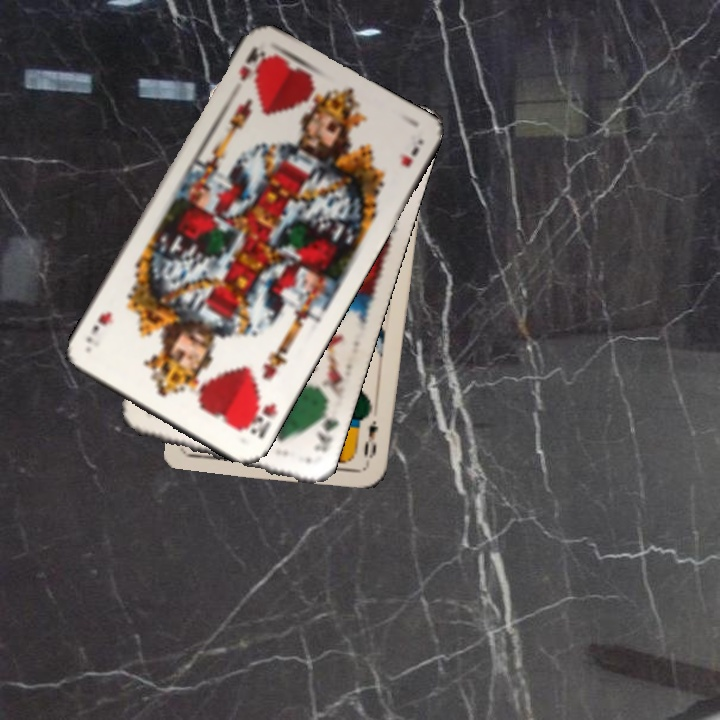EO: (359, 416, 381, 461)
GK: (310, 405, 341, 455)
HK: (238, 391, 280, 441), (235, 43, 268, 83)
